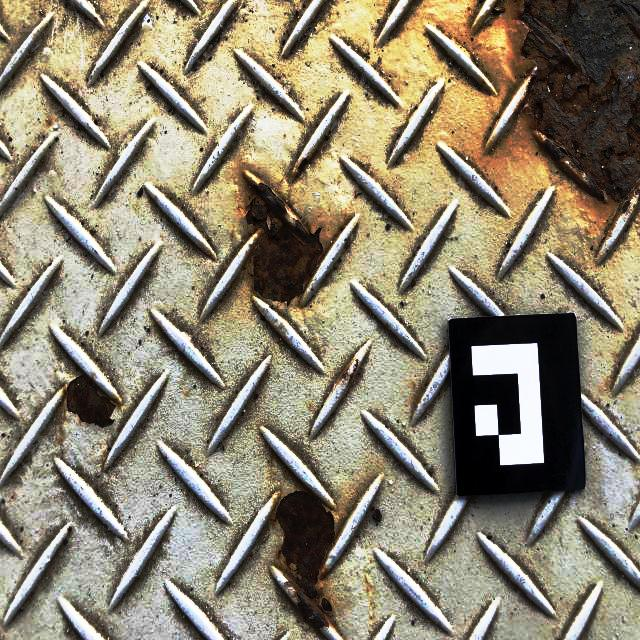Corrosion: (506, 0, 640, 205), (243, 171, 325, 307), (275, 491, 335, 629), (66, 375, 116, 428), (338, 356, 359, 391), (297, 154, 307, 172)
